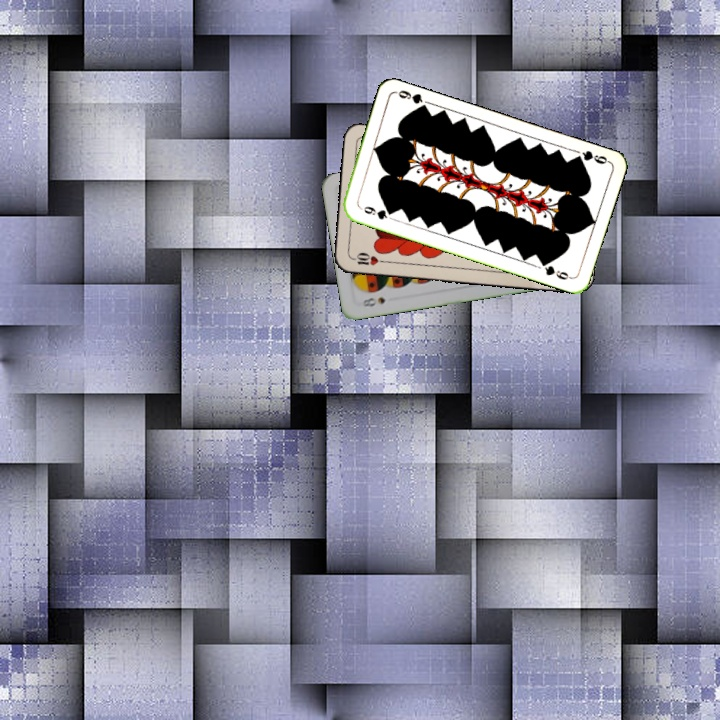G9: (570, 146, 612, 167), (355, 202, 395, 222)
H10: (348, 249, 389, 268)
S8: (358, 293, 388, 309)
